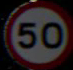Speed limit: (6, 4, 67, 60)
